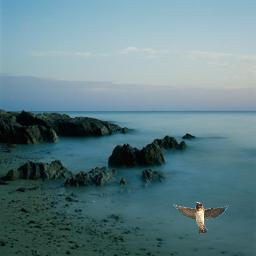Swallow: (172, 202, 229, 234)
